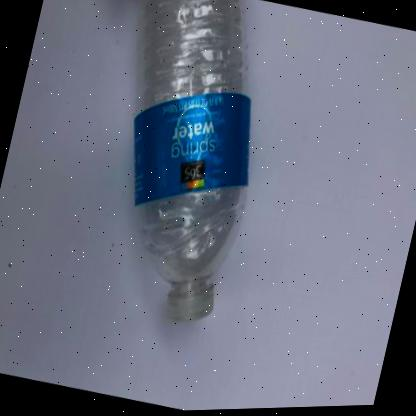Plastic: (133, 0, 250, 323)
